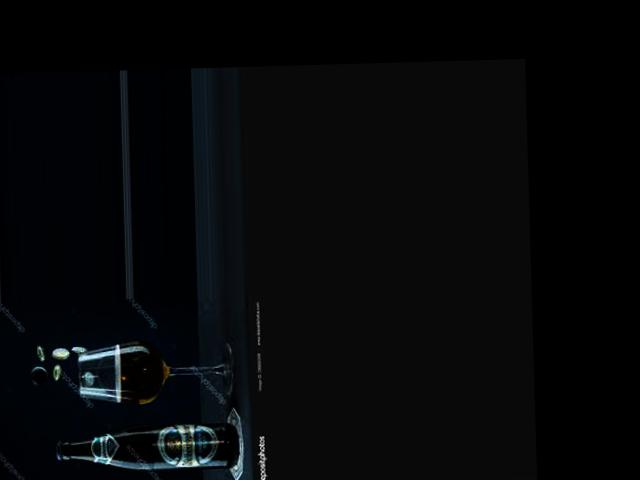beer: (57, 423, 237, 470)
